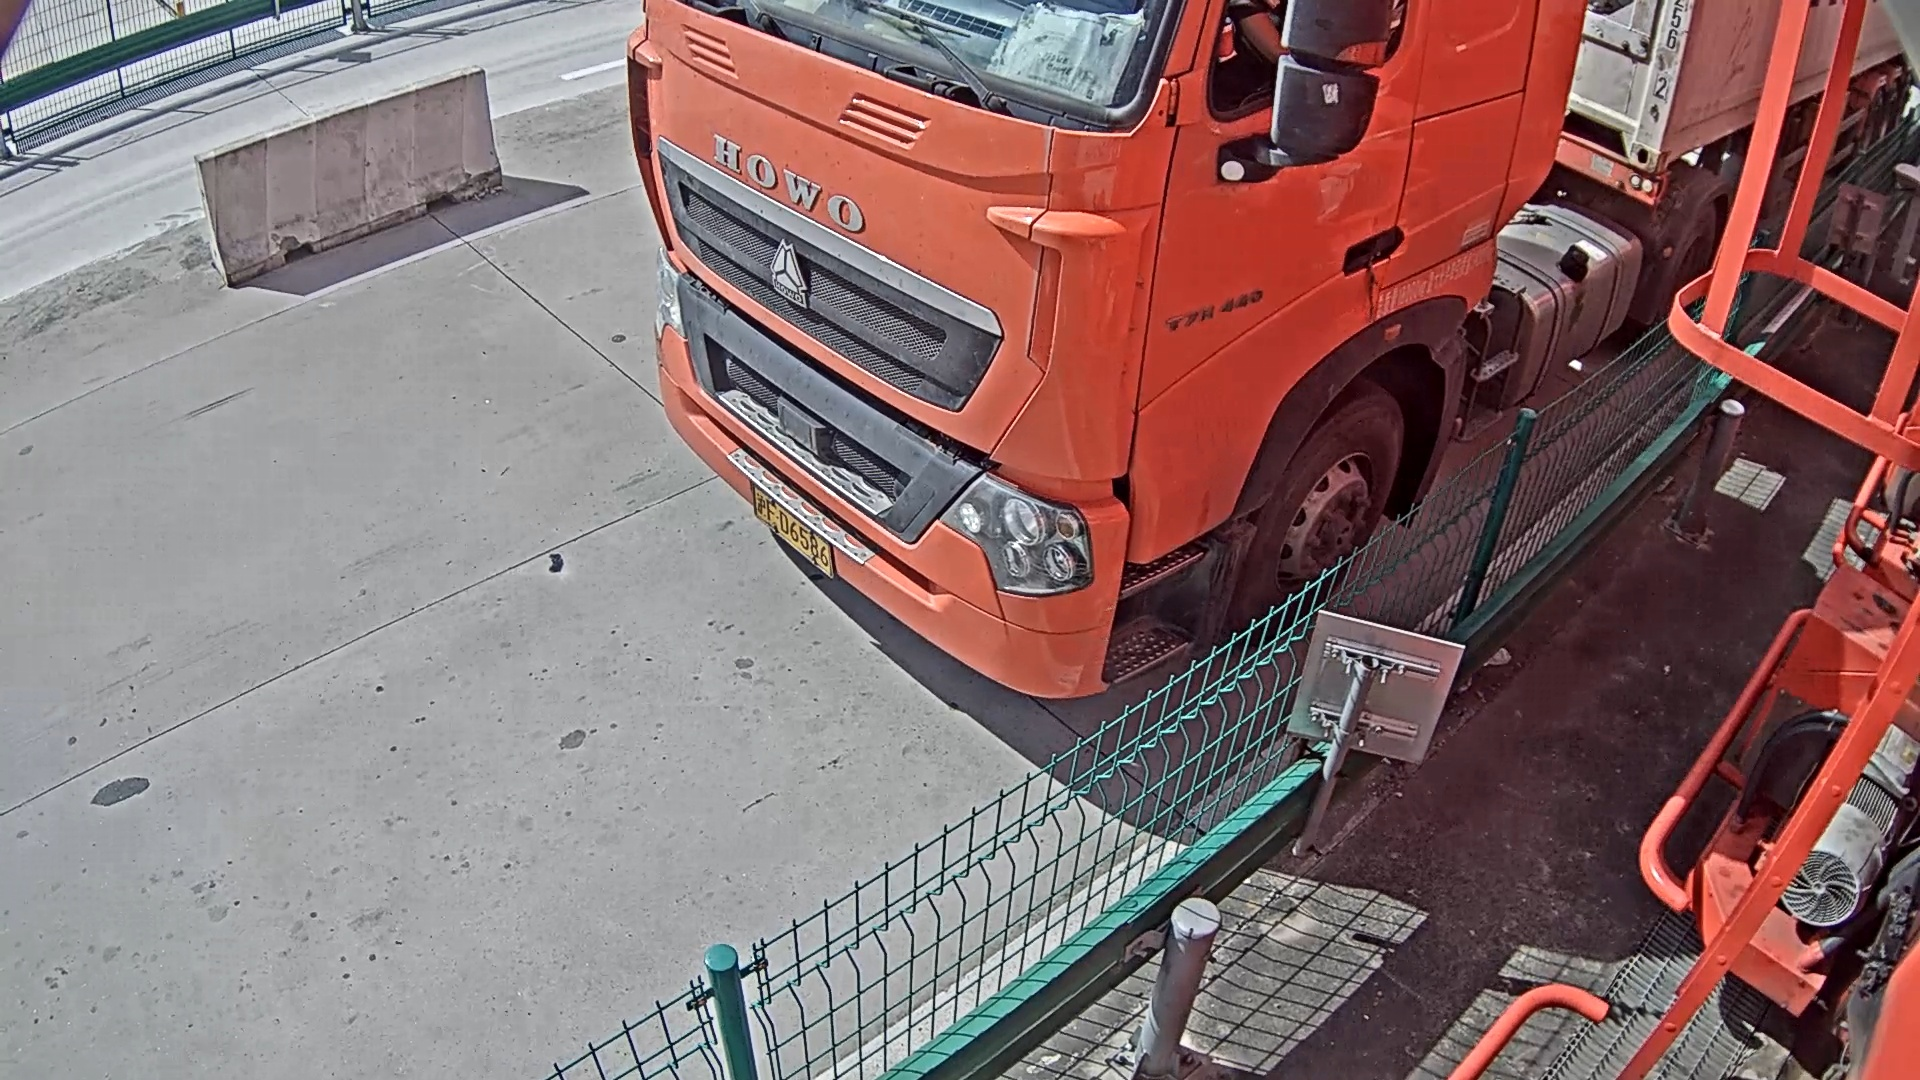head: (631, 1, 1591, 694)
plate: (753, 483, 832, 576)
